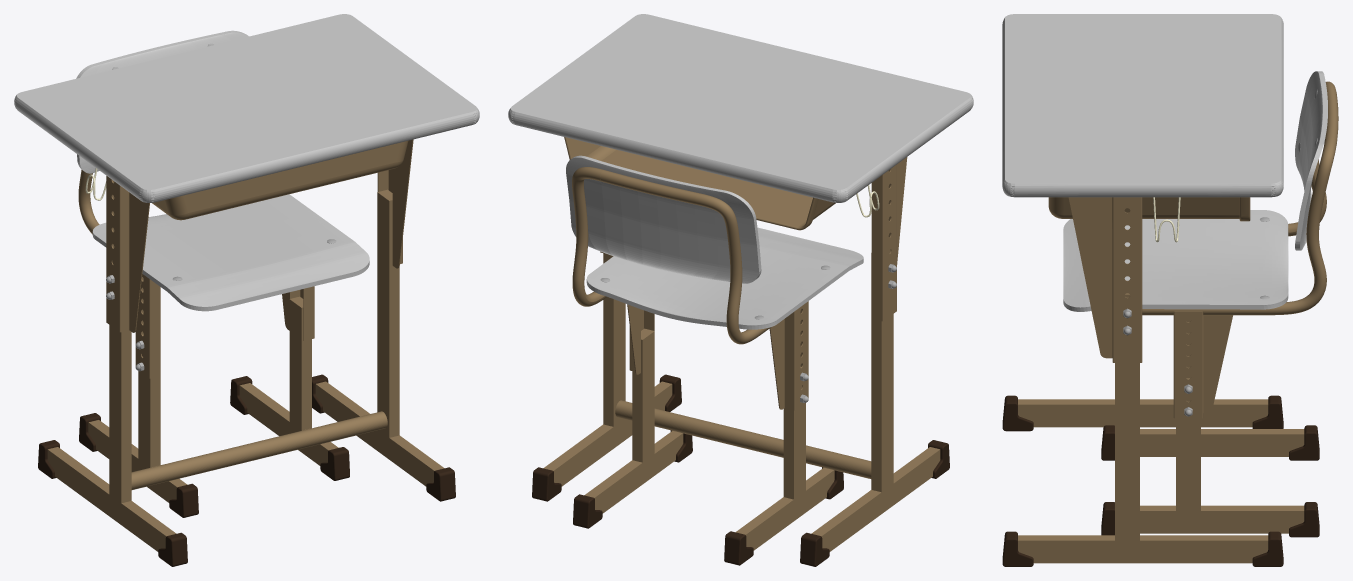
The model's file is J_School_Desk.obj.
3 renders of one model, left to right at view 1: azimuth 30°, elevation 25°; view 2: azimuth 150°, elevation 25°; view 3: azimuth 270°, elevation 25°, orthographic. The views are drawn at different scales.
Visible parts, largest first — view 1: Object.006, seat.002, des_body, des_side_f_u, Object.044, Object.048, Object.043, Object.051, Object.054, Object.031, ch_side_fre_u, Object.025 (+16 smaller); view 2: Object.006, Object.011, seat.002, pibe, des_body, des_side_f_u, Object.043, Object.048, Object.051, ch_side_fre_u, Object.044, Object.054 (+15 smaller); view 3: Object.006, seat.002, des_side_f_u.001, Object.054, Object.051, ch_side_fre_u.001, Object.044, Object.029, pibe, Object.023, des_body, Object.031 (+16 smaller).
Part boxes in pixels (<box>): Object.006: <box>15,14,478,192</box>; seat.002: <box>92,194,369,307</box>; des_body: <box>152,141,408,220</box>; des_side_f_u: <box>106,176,149,332</box>; Object.044: <box>377,189,399,437</box>; Object.048: <box>131,411,387,489</box>; Object.043: <box>109,260,131,503</box>; Object.051: <box>47,447,176,551</box>; Object.054: <box>315,381,444,486</box>; Object.031: <box>289,296,311,430</box>; ch_side_fre_u: <box>135,274,160,378</box>; Object.025: <box>138,334,160,467</box>; Object.006: <box>509,14,972,192</box>; Object.011: <box>566,157,759,283</box>; seat.002: <box>586,227,863,326</box>; pibe: <box>572,167,770,344</box>; des_body: <box>564,137,835,230</box>; des_side_f_u: <box>871,157,907,321</box>; Object.043: <box>871,249,893,492</box>; Object.048: <box>615,400,871,478</box>; Object.051: <box>811,447,940,551</box>; ch_side_fre_u: <box>769,301,808,410</box>; Object.044: <box>603,253,625,426</box>; Object.054: <box>543,381,672,486</box>; Object.006: <box>1003,14,1282,185</box>; seat.002: <box>1063,210,1288,308</box>; des_side_f_u.001: <box>1068,197,1142,362</box>; Object.054: <box>1018,535,1268,563</box>; Object.051: <box>1018,399,1268,427</box>; ch_side_fre_u.001: <box>1173,311,1232,418</box>; Object.044: <box>1115,293,1139,540</box>; Object.029: <box>1140,505,1304,533</box>; pibe: <box>1142,81,1338,315</box>; Object.023: <box>1140,429,1304,456</box>; des_body: <box>1048,197,1250,221</box>; Object.031: <box>1176,378,1200,510</box>.
Size of the model in its own units: 0.65 by 0.7 by 0.5376.
